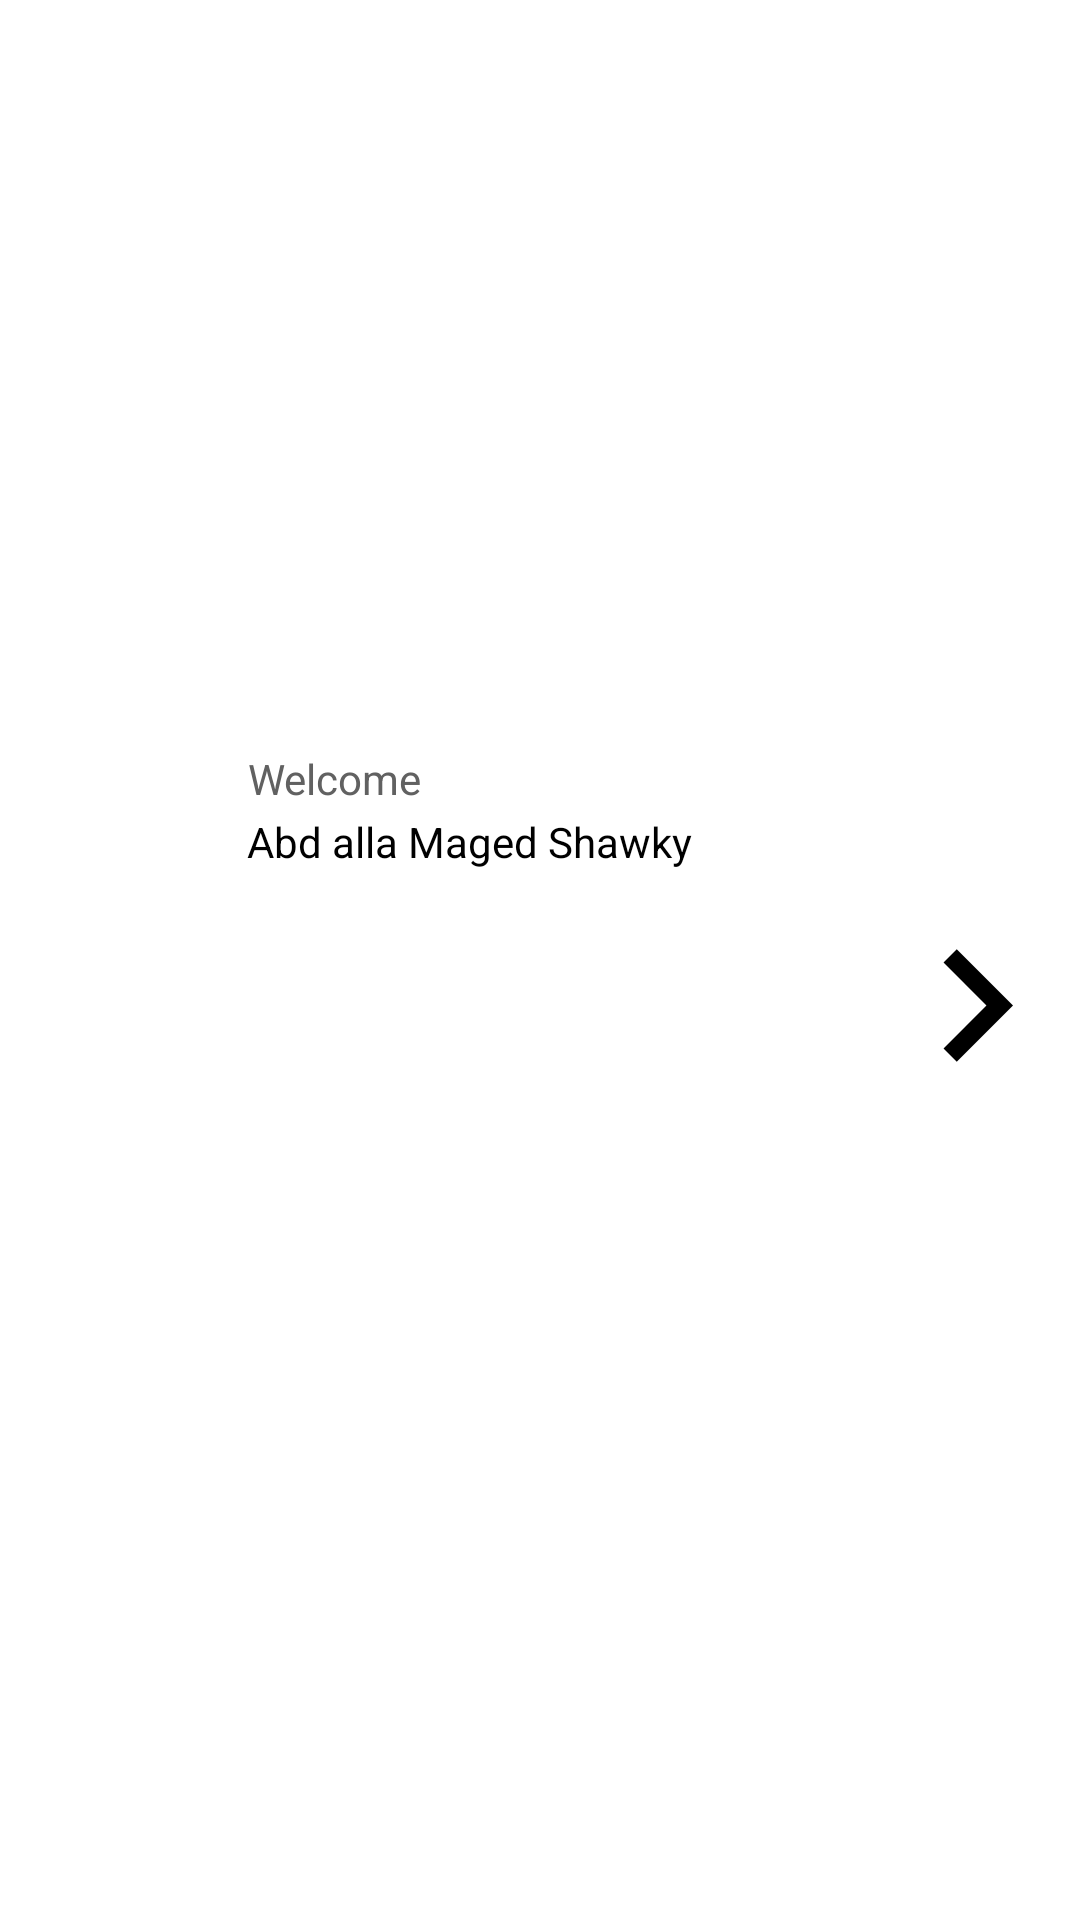

Screen size 1080 x 1920. Icon name, then its center in pixels as (x,y):
forward: (978,1005)
